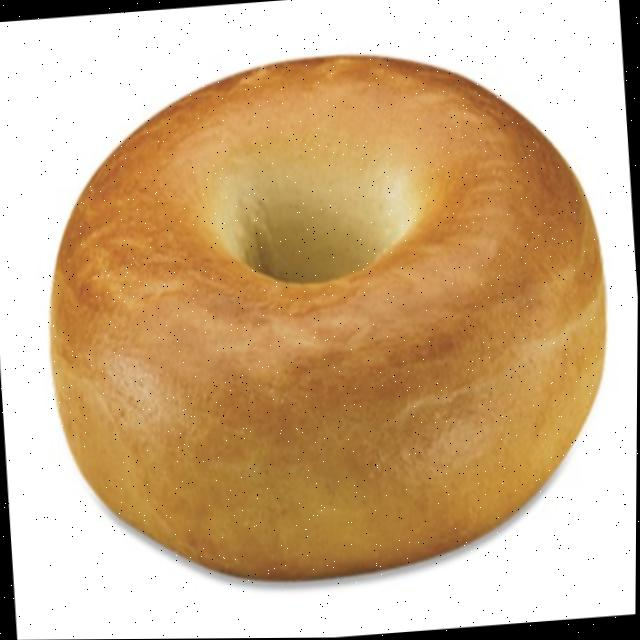Bagel: (51, 56, 606, 580)
